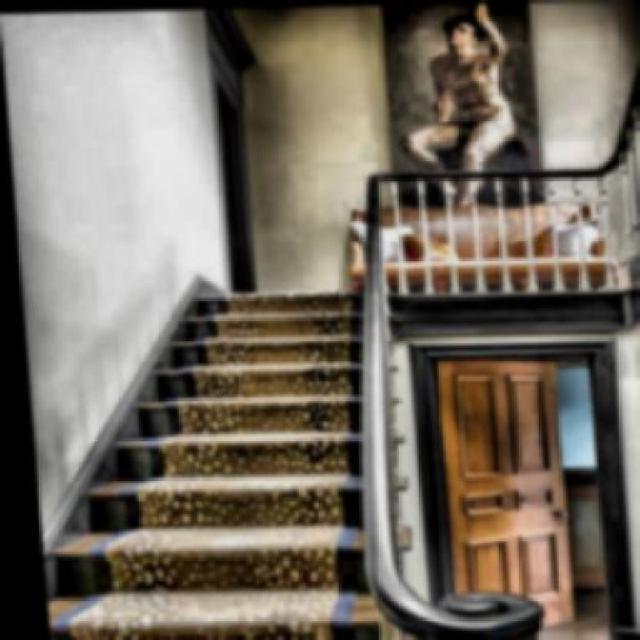stair: (20, 294, 394, 638)
